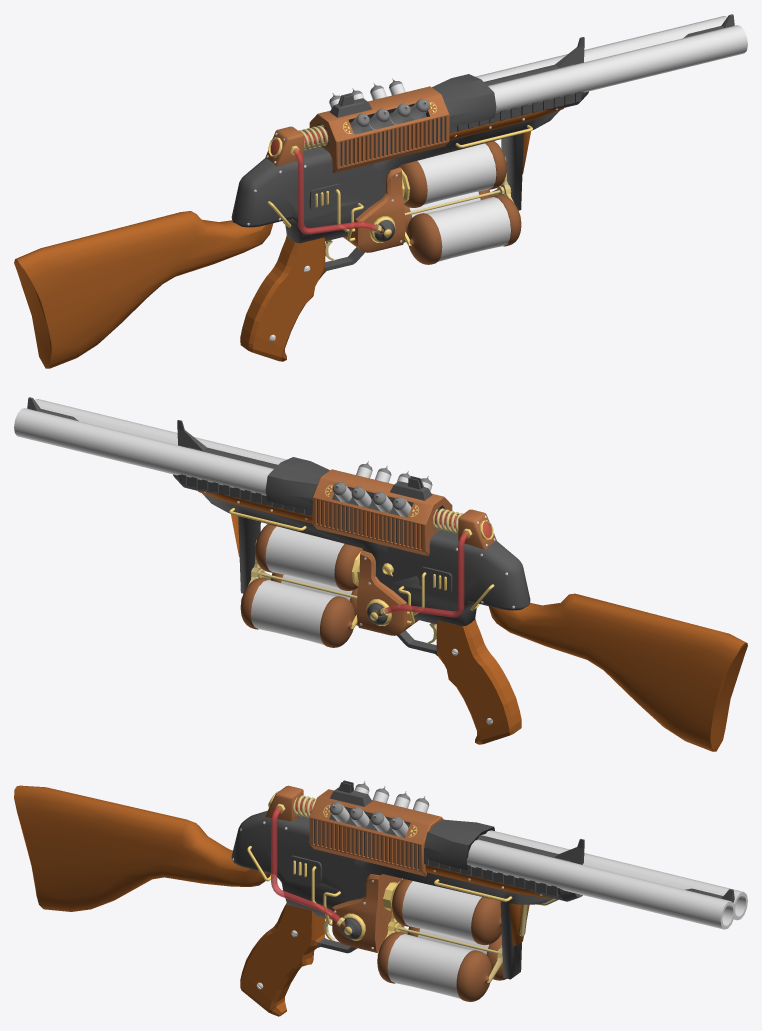
File: StVictoria.fbx
3 views of the same model, one above another, from view 1: azimuth 30°, elevation 25°; view 2: azimuth 150°, elevation 25°; view 3: azimuth 330°, elevation 25° (orthographic).
Visible parts, largest first — view 1: cross, artefact fusil, main body, poignée, loader, Tank 3, Tank, artefact rifle, extracteur, main body v2, Voyant à ressource, pipe (+2 smaller); view 2: cross, artefact fusil, main body, poignée, loader, Tank 2, Tank, artefact rifle, extracteur, main body v2, Voyant à ressource, pipe (+2 smaller); view 3: cross, artefact fusil, main body, loader, poignée, Tank 3, Tank, artefact rifle, extracteur, main body v2, pipe, Voyant à ressource (+3 smaller).
Boxes of the visible parts, <box> form: cross: <box>14,211,273,368</box>; artefact fusil: <box>403,14,747,126</box>; main body: <box>231,108,563,243</box>; poignée: <box>240,235,364,361</box>; loader: <box>309,86,449,173</box>; Tank 3: <box>406,194,521,264</box>; Tank: <box>399,141,506,207</box>; artefact rifle: <box>330,37,588,135</box>; extracteur: <box>343,167,410,252</box>; main body v2: <box>283,166,399,220</box>; Voyant à ressource: <box>265,126,328,166</box>; pipe: <box>272,138,377,234</box>; cross: <box>488,593,747,751</box>; artefact fusil: <box>14,397,358,509</box>; main body: <box>198,491,530,626</box>; poignée: <box>397,619,521,744</box>; loader: <box>312,469,452,556</box>; Tank 2: <box>240,577,355,647</box>; Tank: <box>255,524,362,590</box>; artefact rifle: <box>173,420,431,517</box>; extracteur: <box>352,550,418,635</box>; main body v2: <box>362,549,478,603</box>; Voyant à ressource: <box>434,509,496,549</box>; pipe: <box>384,521,489,617</box>; cross: <box>14,785,270,911</box>; artefact fusil: <box>385,819,747,929</box>; main body: <box>231,810,558,979</box>; loader: <box>309,789,443,876</box>; poignée: <box>240,903,357,1016</box>; Tank 3: <box>377,932,491,1001</box>; Tank: <box>392,879,501,945</box>; artefact rifle: <box>330,780,584,901</box>; extracteur: <box>332,874,404,952</box>; main body v2: <box>263,845,379,897</box>; pipe: <box>271,806,340,922</box>; Voyant à ressource: <box>265,785,312,821</box>.
Size of the model in its own units: 522 by 173 by 69.82.
